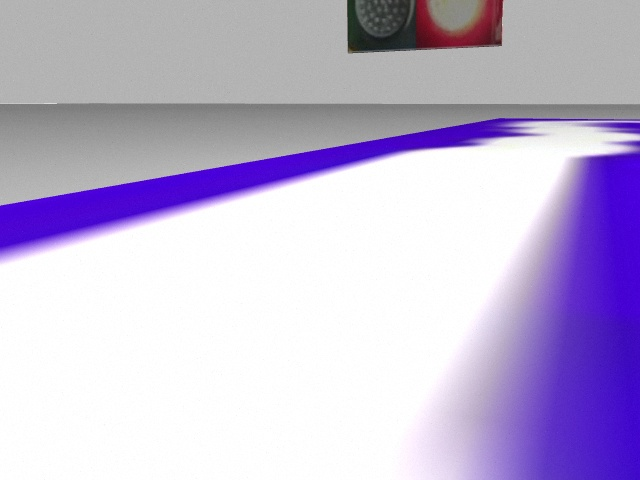red: (416, 1, 502, 47)
